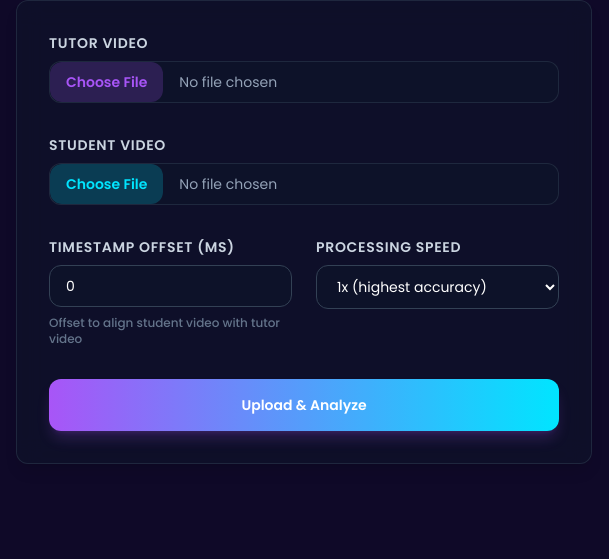
UploadForm › requires both video files
Click the button "Upload & Analyze": {"x": 304, "y": 405} [49, 379, 559, 431]
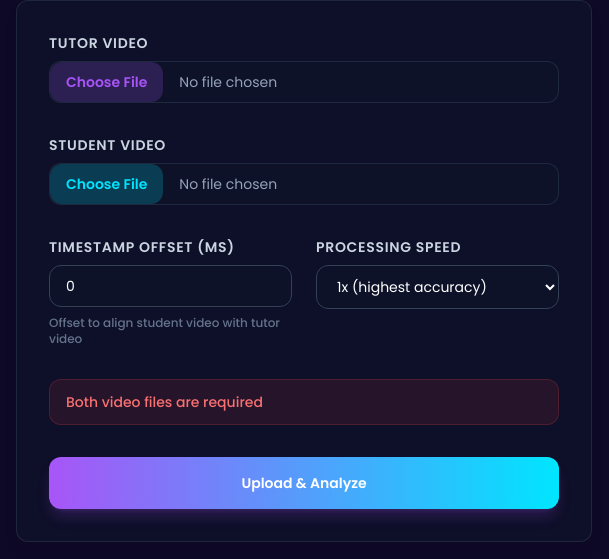
Result: the text "Both video files are required" is shown at [49, 379, 559, 425]
